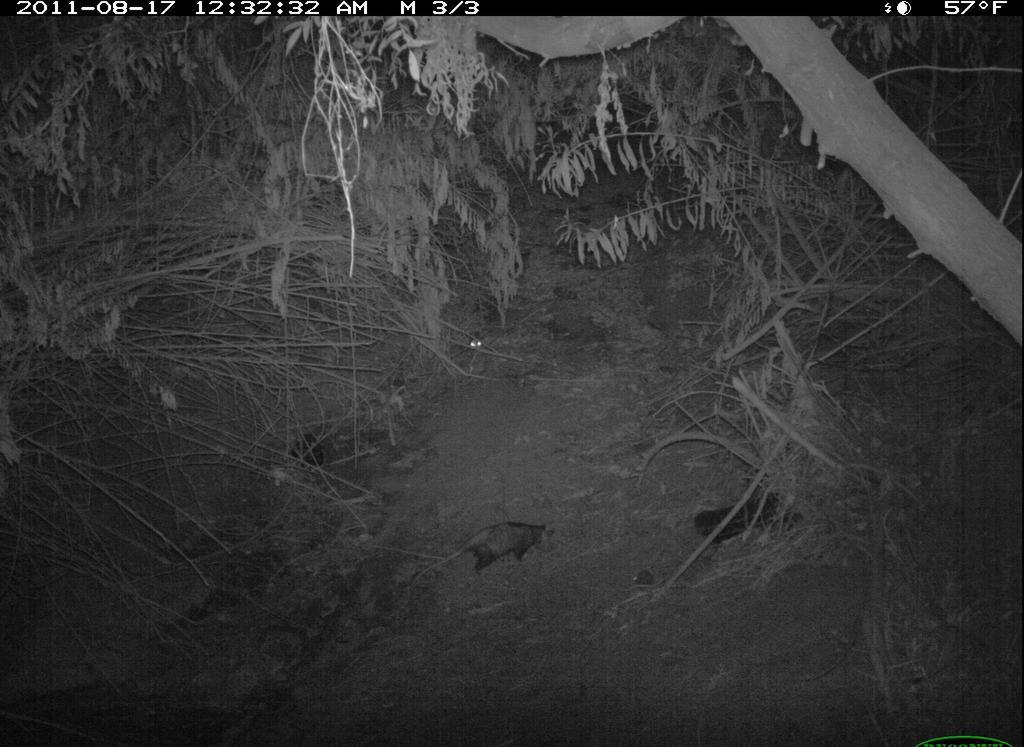opossum: (415, 515, 569, 587)
